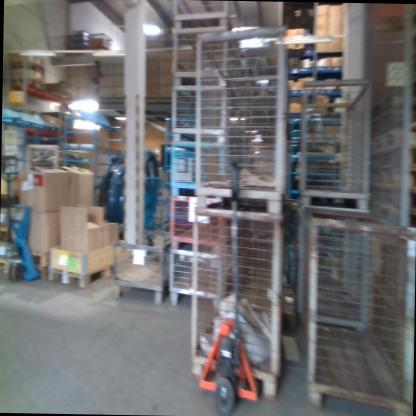pallet: (46, 263, 113, 291)
pallet_truck: (187, 154, 278, 413), (0, 144, 44, 289)
stillage: (307, 220, 413, 409), (189, 203, 283, 400), (194, 30, 287, 213), (296, 73, 372, 214), (110, 229, 175, 307), (166, 245, 234, 308), (169, 25, 242, 81), (166, 138, 237, 195), (164, 189, 230, 249), (169, 83, 237, 141), (172, 0, 237, 28)
